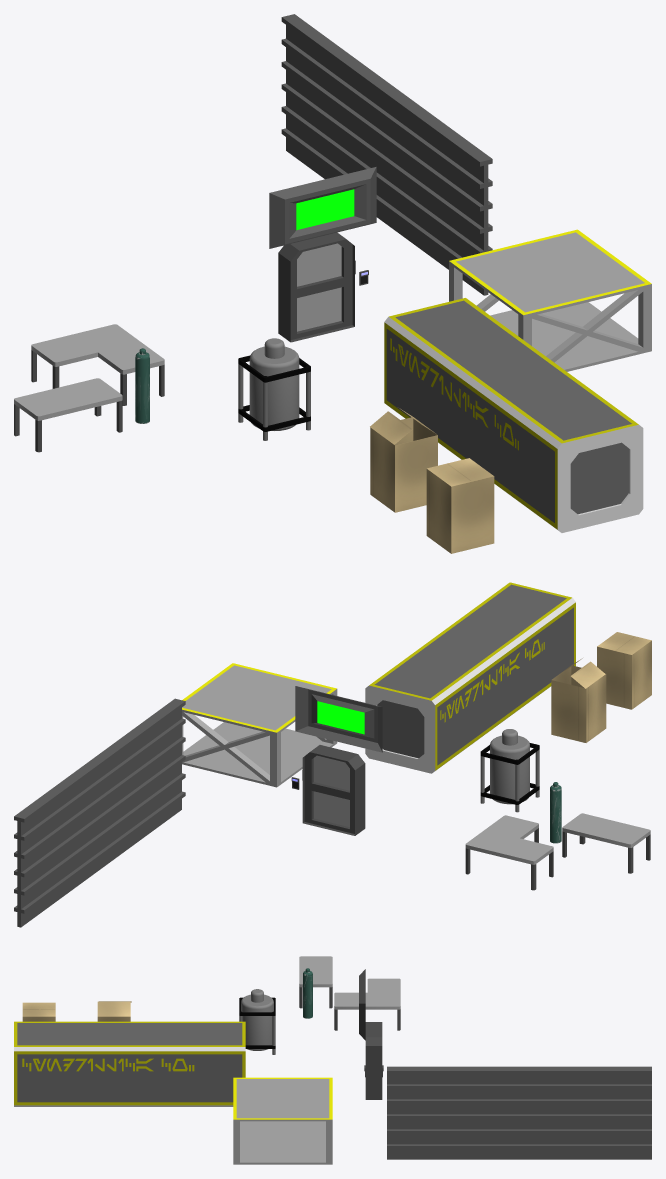
Rendered from SharedResources.glb.
The picture shows the model from 3 angles, top to bottom: view 1: azimuth 30°, elevation 25°; view 2: azimuth 150°, elevation 25°; view 3: azimuth 270°, elevation 25°; orthographic projection. The views are drawn at different scales.
Parts seen in each view (by area): view 1: HallDoor, BoxBig, Scaffold3M, BoxSideOther, PersonelDoor (C-Group#37), Cube, Box, BoxOpen, TableL, FramedTank, Table, G-Object.033 (+2 smaller); view 2: HallDoor, BoxBig, Scaffold3M, BoxSideOther, Cube, BoxOpen, PersonelDoor (C-Group#37), Box, TableL, FramedTank, Table, G-Object.033 (+2 smaller); view 3: HallDoor, BoxSideOther.001, BoxBig, Scaffold3M, TableL, FramedTank, G-Object.033, Table, BoxOpen, Box, TallTank, Cube.
Part boxes in pixels (x1=…): HallDoor: x1=281, y1=14, x2=492, y2=295; BoxBig: x1=384, y1=298, x2=643, y2=532; Scaffold3M: x1=449, y1=229, x2=651, y2=371; BoxSideOther: x1=386, y1=329, x2=554, y2=522; PersonelDoor (C-Group#37): x1=282, y1=233, x2=352, y2=340; Cube: x1=269, y1=167, x2=376, y2=248; Box: x1=426, y1=458, x2=494, y2=553; BoxOpen: x1=370, y1=408, x2=437, y2=512; TableL: x1=31, y1=324, x2=164, y2=374; FramedTank: x1=249, y1=338, x2=299, y2=430; Table: x1=14, y1=378, x2=122, y2=420; G-Object.033: x1=278, y1=232, x2=368, y2=342; HallDoor: x1=14, y1=698, x2=185, y2=927; BoxBig: x1=365, y1=582, x2=575, y2=773; Scaffold3M: x1=182, y1=663, x2=337, y2=787; BoxSideOther: x1=437, y1=607, x2=573, y2=765; Cube: x1=295, y1=686, x2=382, y2=752; BoxOpen: x1=551, y1=658, x2=606, y2=742; PersonelDoor (C-Group#37): x1=304, y1=749, x2=358, y2=833; Box: x1=597, y1=632, x2=651, y2=709; TableL: x1=465, y1=815, x2=553, y2=864; FramedTank: x1=490, y1=729, x2=529, y2=804; Table: x1=562, y1=813, x2=650, y2=847; G-Object.033: x1=291, y1=745, x2=365, y2=835; HallDoor: x1=387, y1=1066, x2=651, y2=1159; BoxSideOther.001: x1=17, y1=1054, x2=242, y2=1102; BoxBig: x1=14, y1=1021, x2=245, y2=1106; Scaffold3M: x1=233, y1=1077, x2=332, y2=1164; TableL: x1=334, y1=978, x2=400, y2=1009; FramedTank: x1=241, y1=989, x2=273, y2=1050; G-Object.033: x1=364, y1=1022, x2=383, y2=1099; Table: x1=299, y1=956, x2=332, y2=987; BoxOpen: x1=97, y1=1001, x2=131, y2=1021; Box: x1=22, y1=1002, x2=55, y2=1021; TallTank: x1=303, y1=968, x2=312, y2=1018; Cube: x1=359, y1=969, x2=365, y2=1040.
Bounding box in the file's own units: 13.16 × 3.81 × 19.27.
18 materials, 2 textured.
